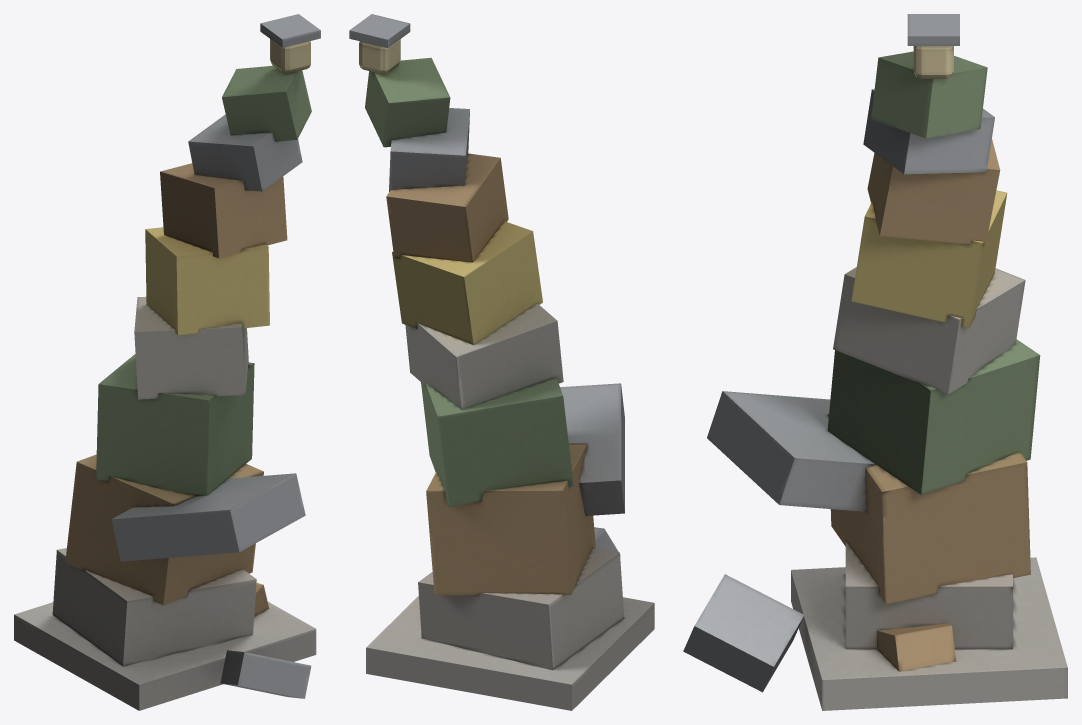
File: blockjenga.glb
3 renders of one model, left to right at view 1: azimuth 30°, elevation 25°; view 2: azimuth 150°, elevation 25°; view 3: azimuth 270°, elevation 25°, orthographic. The views are drawn at different scales.
Parts seen in each view (by area): view 1: blockjenga; view 2: blockjenga; view 3: blockjenga.
Part boxes in pixels (x1,y1,x2,y2): blockjenga: [14, 14, 320, 710]; blockjenga: [349, 14, 654, 710]; blockjenga: [683, 14, 1067, 710].
Bounding box in the file's own units: 2.24 × 5.07 × 2.49.
6 materials, 6 textured.
